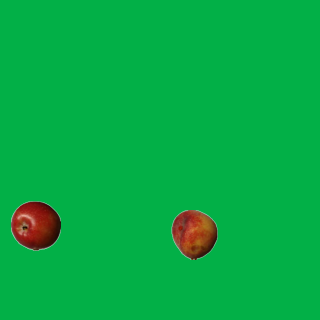Apple Braeburn: (10, 200, 60, 250)
Peach: (169, 209, 219, 259)
